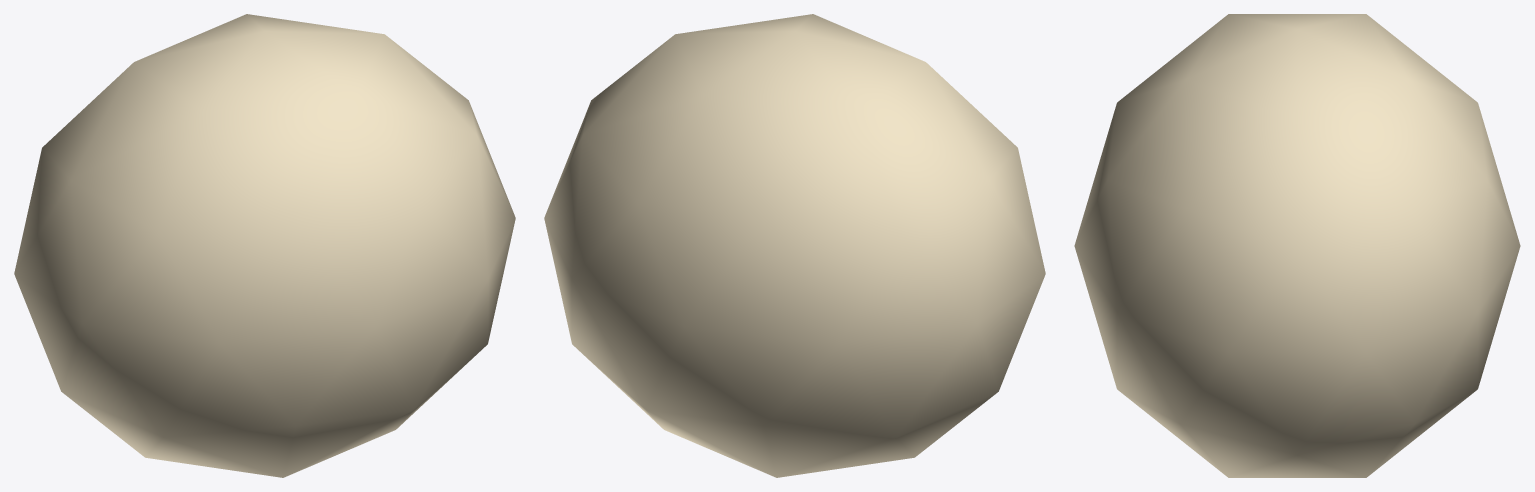
Rendered from tpe5_steam_puff.glb.
3 renders of one model, left to right at view 1: azimuth 30°, elevation 25°; view 2: azimuth 150°, elevation 25°; view 3: azimuth 270°, elevation 25°, orthographic.
Visible parts, largest first — view 1: tpe5_steam_puff__tpe5-street-ivory; view 2: tpe5_steam_puff__tpe5-street-ivory; view 3: tpe5_steam_puff__tpe5-street-ivory.
Boxes of the visible parts, x1,y1,x2,y2 form: tpe5_steam_puff__tpe5-street-ivory: [14, 14, 515, 477]; tpe5_steam_puff__tpe5-street-ivory: [544, 14, 1045, 477]; tpe5_steam_puff__tpe5-street-ivory: [1074, 14, 1520, 477].
Bounding box in the file's own units: 0.9511 × 0.9 × 0.84.
